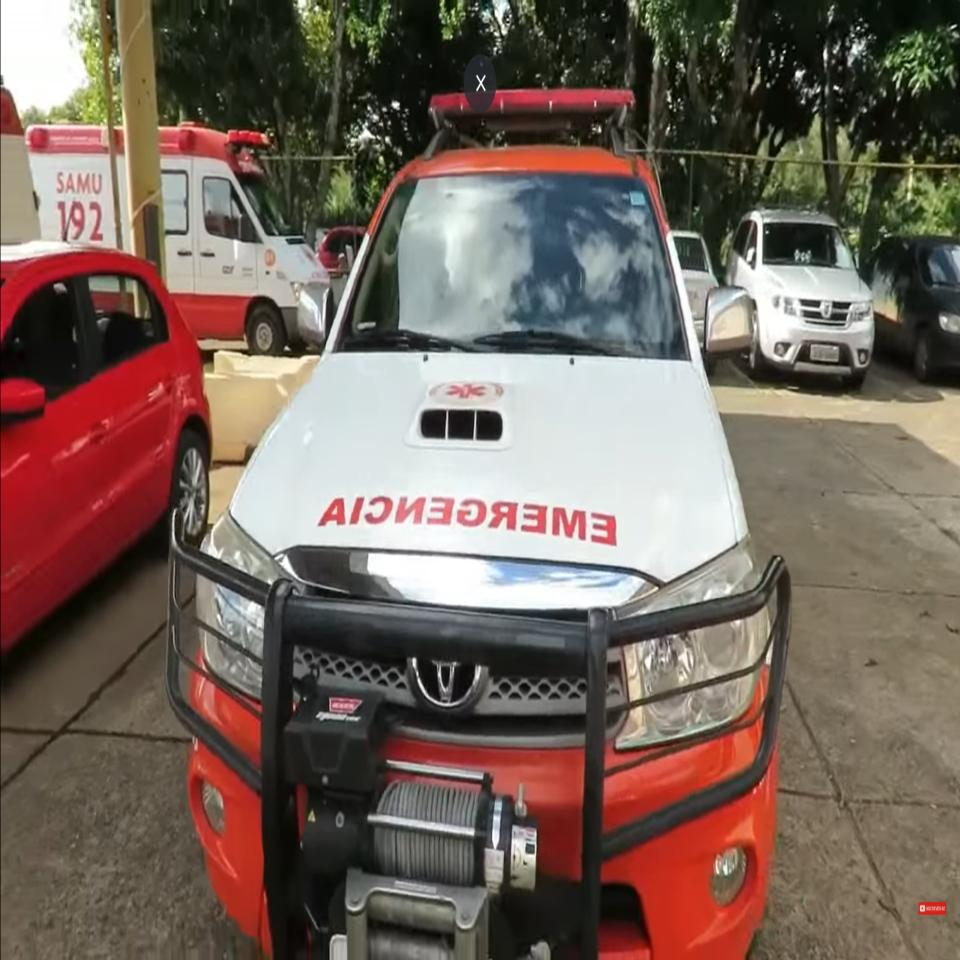bombeiro: (196, 84, 794, 960)
